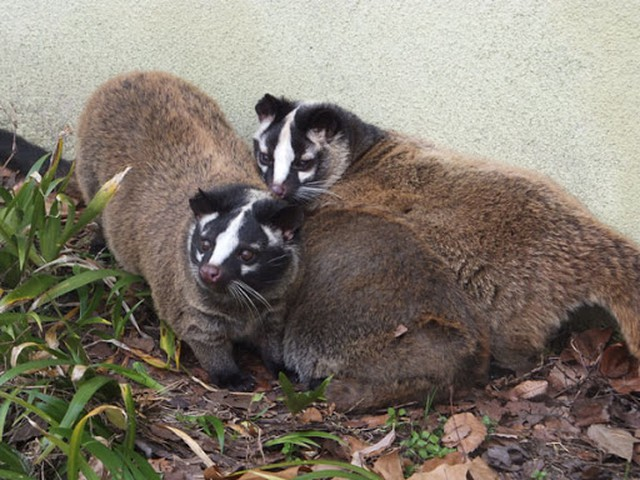civet: (254, 90, 629, 342), (74, 70, 308, 390)
